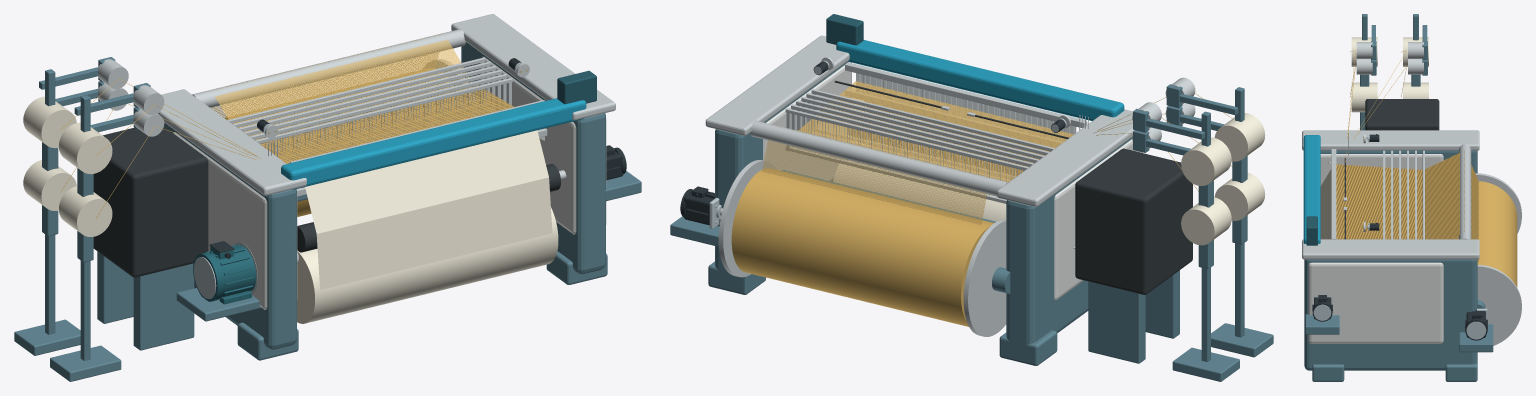
Rendered from titan_tt868.glb.
3 views of the same model, side by side, from view 1: azimuth 30°, elevation 25°; view 2: azimuth 150°, elevation 25°; view 3: azimuth 270°, elevation 25° (orthographic). The views are drawn at different scales.
Parts seen in each view (by area): view 1: TT868_woven_web, TT868_dobby_housing, TT868_woven_roll, TT868_blue_front, TT868_warp_to_heald, TT868_shed_to_reed, TT868_side_frame.001, TT868_side_cap, TT868_side_frame, TT868_panel, TT868_backrest, TT868_side_cap.001 (+31 smaller); view 2: TT868_warp_package, TT868_dobby_housing, TT868_shed_to_reed, TT868_side_frame, TT868_warp_back, TT868_blue_front, TT868_side_cap, TT868_side_cap.001, TT868_backrest, TT868_dobby_stand.001, TT868_beam_flange, TT868_woven_roll (+30 smaller); view 3: TT868_panel.001, TT868_side_frame.001, TT868_shed_to_reed, TT868_side_cap.001, TT868_side_cap, TT868_warp_package, TT868_warp_to_heald, TT868_beam_flange.001, TT868_dobby_housing, TT868_blue_front, TT868_panel, TT868_backrest (+24 smaller).
Boxes of the visible parts, x1,y1,x2,y2 form: TT868_woven_web: (305,130,552,289); TT868_dobby_housing: (93,127,208,277); TT868_woven_roll: (297,207,558,323); TT868_blue_front: (281,98,586,189); TT868_warp_to_heald: (212,34,468,135); TT868_shed_to_reed: (255,85,513,163); TT868_side_frame.001: (461,42,605,274); TT868_side_cap: (158,89,306,195); TT868_side_frame: (164,123,296,349); TT868_panel: (173,132,297,309); TT868_backrest: (192,29,465,107); TT868_side_cap.001: (451,14,615,120); TT868_warp_package: (731,168,993,326); TT868_dobby_housing: (1075,148,1192,294); TT868_shed_to_reed: (798,81,1073,182); TT868_side_frame: (1006,137,1132,347); TT868_warp_back: (762,126,987,224); TT868_blue_front: (836,40,1124,120); TT868_side_cap: (997,109,1134,206); TT868_side_cap.001: (705,35,849,135); TT868_backrest: (750,120,1008,195); TT868_dobby_stand.001: (1088,281,1145,363); TT868_beam_flange: (963,219,1006,336); TT868_woven_roll: (833,159,1006,221); TT868_panel.001: (1308,262,1443,343); TT868_side_frame.001: (1304,259,1477,370); TT868_shed_to_reed: (1336,164,1422,239); TT868_side_cap.001: (1302,239,1479,259); TT868_side_cap: (1302,130,1479,150); TT868_warp_package: (1451,181,1517,287); TT868_warp_to_heald: (1425,150,1464,239); TT868_beam_flange.001: (1477,264,1521,345); TT868_dobby_housing: (1365,99,1439,130); TT868_blue_front: (1303,135,1320,243); TT868_panel: (1320,154,1443,185); TT868_backrest: (1458,144,1471,239).
Size of the model in its own units: 3.96 by 1.9 by 1.93.
